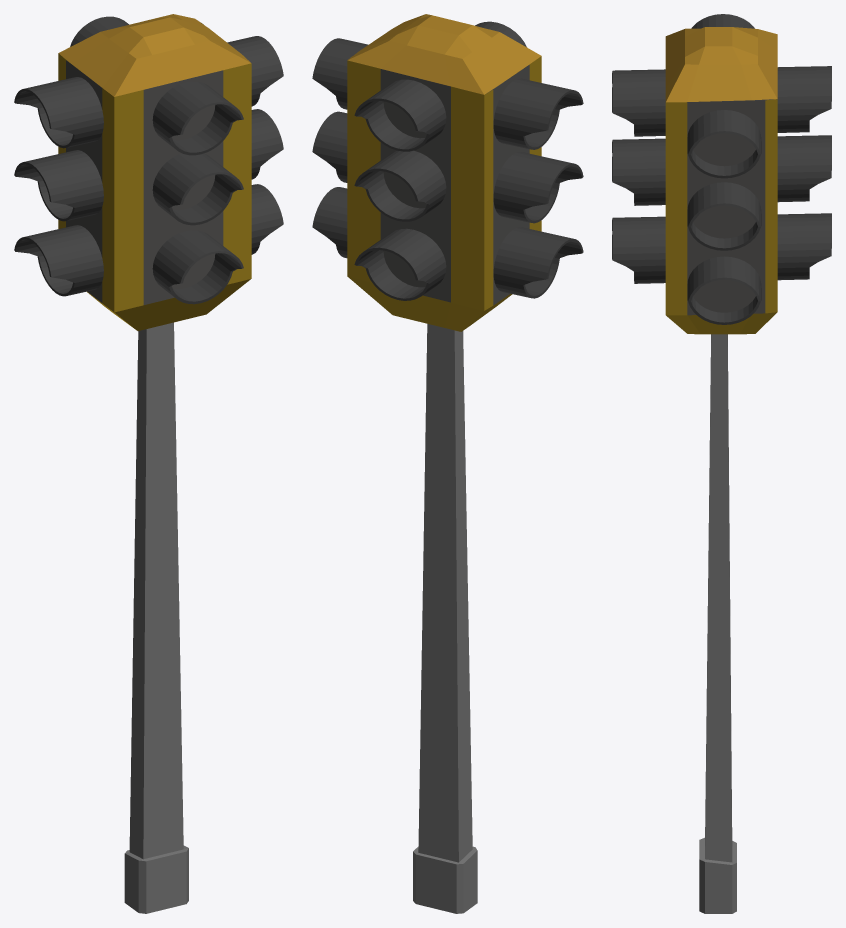
File: cemaforo1.fbx
3 renders of one model, left to right at view 1: azimuth 30°, elevation 25°; view 2: azimuth 150°, elevation 25°; view 3: azimuth 270°, elevation 25°, orthographic.
Visible parts, largest first — view 1: Cube.007, Cube.008, Cube, Cube.010, Cube.009, Cube.006, Cube.005, Cube.004, Cube.003, Cube.002, Cube.001; view 2: Cube.007, Cube.012, Cube.008, Cube, Cube.006, Cube.004, Cube.005, Cube.011, Cube.003, Cube.002, Cube.001, Cube.009; view 3: Cube.007, Cube, Cube.008, Cube.003, Cube.002, Cube.001, Cube.009, Cube.006, Cube.011, Cube.004, Cube.005.
Boxes of the visible parts, x1,y1,x2,y2 form: Cube.007: [124, 322, 188, 913]; Cube.008: [58, 14, 250, 96]; Cube: [66, 24, 223, 304]; Cube.010: [102, 88, 143, 312]; Cube.009: [87, 63, 251, 330]; Cube.006: [14, 36, 283, 148]; Cube.005: [14, 184, 283, 296]; Cube.004: [14, 109, 283, 221]; Cube.003: [70, 16, 243, 155]; Cube.002: [152, 230, 243, 304]; Cube.001: [152, 153, 243, 225]; Cube.007: [413, 324, 477, 913]; Cube.012: [451, 86, 493, 310]; Cube.008: [347, 14, 541, 94]; Cube: [353, 55, 529, 305]; Cube.006: [312, 38, 583, 149]; Cube.004: [312, 111, 583, 223]; Cube.005: [312, 187, 583, 298]; Cube.011: [347, 57, 380, 282]; Cube.003: [354, 21, 526, 151]; Cube.002: [354, 228, 446, 300]; Cube.001: [354, 150, 446, 221]; Cube.009: [348, 276, 512, 331]; Cube.007: [699, 334, 736, 913]; Cube: [687, 100, 765, 315]; Cube.008: [665, 27, 777, 102]; Cube.003: [612, 66, 831, 136]; Cube.002: [612, 213, 831, 283]; Cube.001: [612, 135, 831, 205]; Cube.009: [665, 102, 776, 334]; Cube.006: [687, 14, 761, 178]; Cube.011: [765, 99, 777, 313]; Cube.004: [687, 182, 761, 250]; Cube.005: [687, 256, 761, 324].
Size of the model in its own units: 104 by 370 by 85.14.
